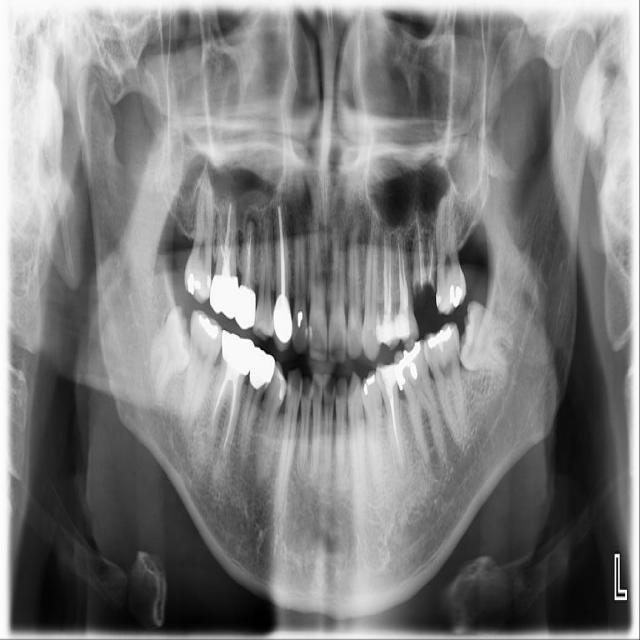52: (415, 318, 473, 377), (390, 337, 435, 396), (211, 329, 261, 377), (189, 309, 225, 365), (183, 247, 213, 304), (436, 261, 467, 314), (207, 273, 241, 321), (261, 360, 291, 412), (247, 346, 278, 394), (233, 283, 259, 332), (273, 293, 293, 353), (359, 369, 384, 417), (308, 302, 328, 361), (375, 307, 401, 351), (396, 305, 420, 349), (375, 362, 399, 401), (291, 303, 308, 353), (285, 368, 304, 406), (300, 377, 313, 408), (311, 374, 324, 402)
73: (201, 350, 251, 459), (411, 209, 436, 299), (214, 194, 241, 277), (382, 389, 407, 476), (377, 224, 399, 316), (275, 182, 290, 305), (394, 232, 414, 316), (240, 220, 256, 293), (570, 525, 580, 570)
BioHorizons Implant: (435, 175, 468, 315)
Biomet 3i Implant: (452, 299, 526, 382)
Blue Sky Bio Implant: (422, 320, 468, 448)
Caries: (183, 161, 218, 303)
Implant: (180, 308, 226, 435)
Keystone Dental Implant: (149, 304, 194, 397)
